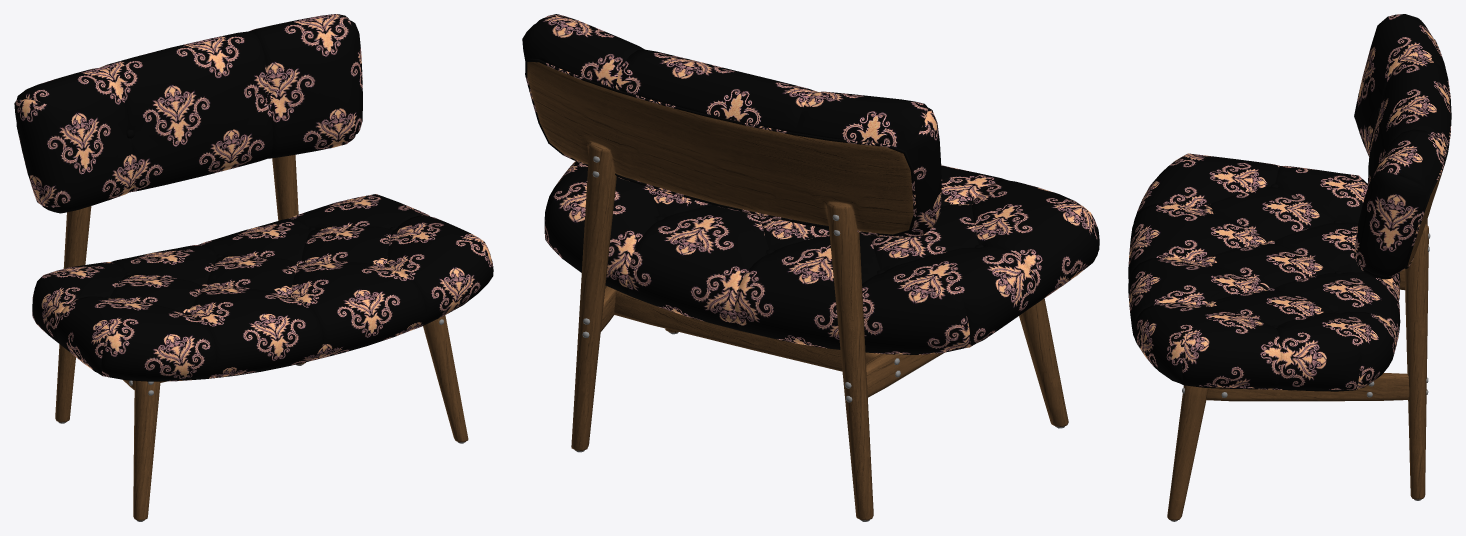
File: ChairDamaskPurplegold.glb
The picture shows the model from 3 angles, left to right: view 1: azimuth 30°, elevation 25°; view 2: azimuth 150°, elevation 25°; view 3: azimuth 270°, elevation 25°; orthographic projection. The views are drawn at different scales.
Visible parts, largest first — view 1: oval-tufted-chair_seat-fabric, oval-tufted-chair_back-fabric, oval-tufted-chair_legs-frame; view 2: oval-tufted-chair_seat-fabric, oval-tufted-chair_back-panel, oval-tufted-chair_legs-frame, oval-tufted-chair_back-fabric, oval-tufted-chair_back-welt; view 3: oval-tufted-chair_seat-fabric, oval-tufted-chair_back-fabric, oval-tufted-chair_legs-frame, oval-tufted-chair_back-welt, oval-tufted-chair_back-panel.
Boxes of the visible parts, left/top/right/bottom form: oval-tufted-chair_seat-fabric: left=32, top=194, right=493, bottom=380; oval-tufted-chair_back-fabric: left=14, top=14, right=362, bottom=213; oval-tufted-chair_legs-frame: left=55, top=154, right=468, bottom=520; oval-tufted-chair_seat-fabric: left=544, top=161, right=1099, bottom=354; oval-tufted-chair_back-panel: left=527, top=62, right=913, bottom=234; oval-tufted-chair_legs-frame: left=571, top=142, right=1068, bottom=520; oval-tufted-chair_back-fabric: left=522, top=14, right=941, bottom=237; oval-tufted-chair_back-welt: left=525, top=58, right=916, bottom=236; oval-tufted-chair_seat-fabric: left=1128, top=153, right=1400, bottom=390; oval-tufted-chair_back-fabric: left=1354, top=14, right=1450, bottom=279; oval-tufted-chair_legs-frame: left=1167, top=219, right=1428, bottom=520; oval-tufted-chair_back-welt: left=1404, top=39, right=1451, bottom=268; oval-tufted-chair_back-panel: left=1407, top=169, right=1443, bottom=266.
Size of the model in its own units: 0.8286 by 0.6874 by 0.5718.
4 materials, 3 textured.
